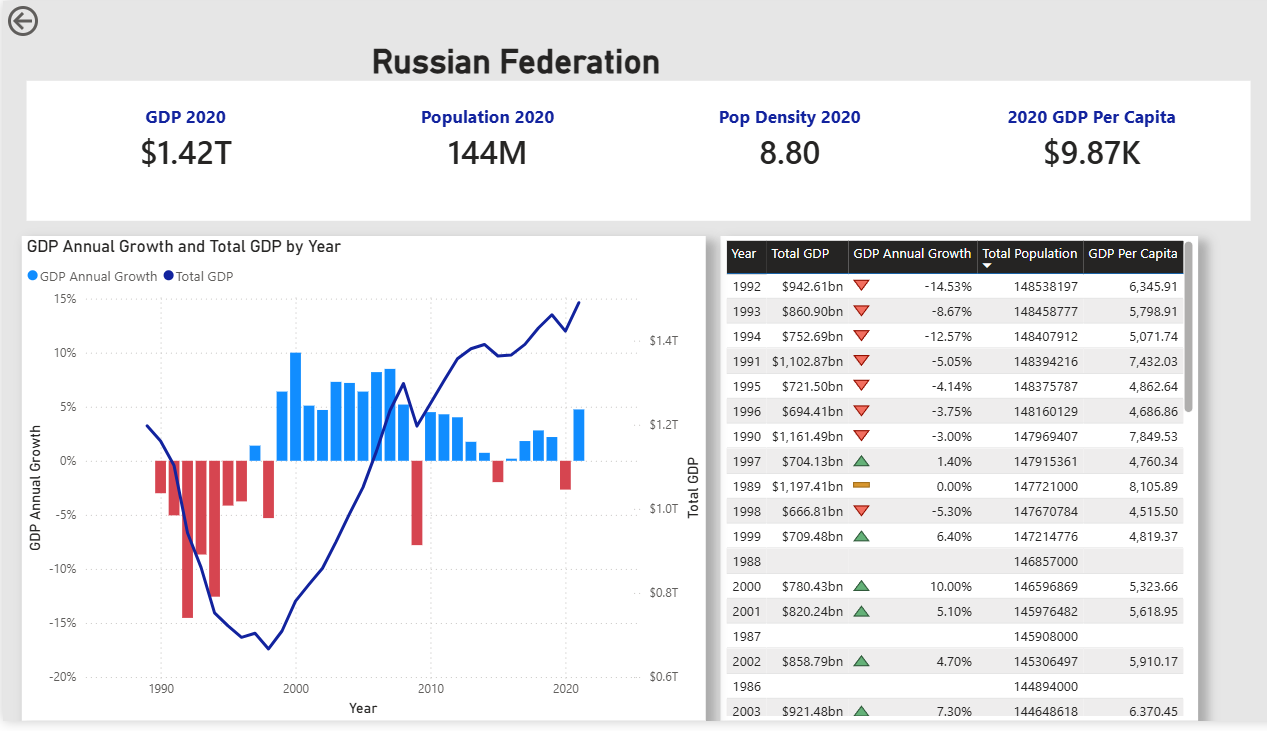

This screenshot's page, from the dashboard's own definition file:
{"tool":"powerbi","page":{"name":"Country Details","canvas":[1280,720],"ordinal":1},"visuals":[{"type":"actionButton","box":[0,0,100,40],"z":0},{"type":"tableEx","fields":{"Values":["Indicators.Year","_measure.Total GDP","_measure.GDP Annual Growth","_measure.Total Population","_measure.GDP Per Capita"]},"box":[717.1,235.2,477.6,484.8],"z":1000},{"type":"lineClusteredColumnComboChart","fields":{"Category":["Indicators.Year"],"Y":["_measure.GDP Annual Growth"],"Y2":["_measure.Total GDP"]},"box":[18.8,235.2,683.9,484.8],"z":2000},{"type":"card","fields":{"Values":["_measure.Selected Country"]},"box":[349.1,20.2,328.9,75],"z":3000},{"type":"cardVisual","fields":{"Data":["_measure.GDP 2020","_measure.Population 2020","_measure.Pop Density 2020","_measure.2020 GDP Per Capita"]},"box":[18.8,75,1237.9,150],"z":4000}]}

Visuals, with their boxes in screenshot pixels (x1, y1, x2, y2), scaled from the page's 1280x720 canvas onto the 1267x731 screenshot:
actionButton: <region>0, 0, 99, 41</region>
tableEx - Indicators.Year x _measure.Total GDP: <region>710, 239, 1183, 730</region>
lineClusteredColumnComboChart - Indicators.Year x _measure.GDP Annual Growth: <region>19, 239, 696, 730</region>
card - _measure.Selected Country: <region>346, 21, 671, 97</region>
cardVisual - _measure.GDP 2020 x _measure.Population 2020: <region>19, 76, 1244, 228</region>
